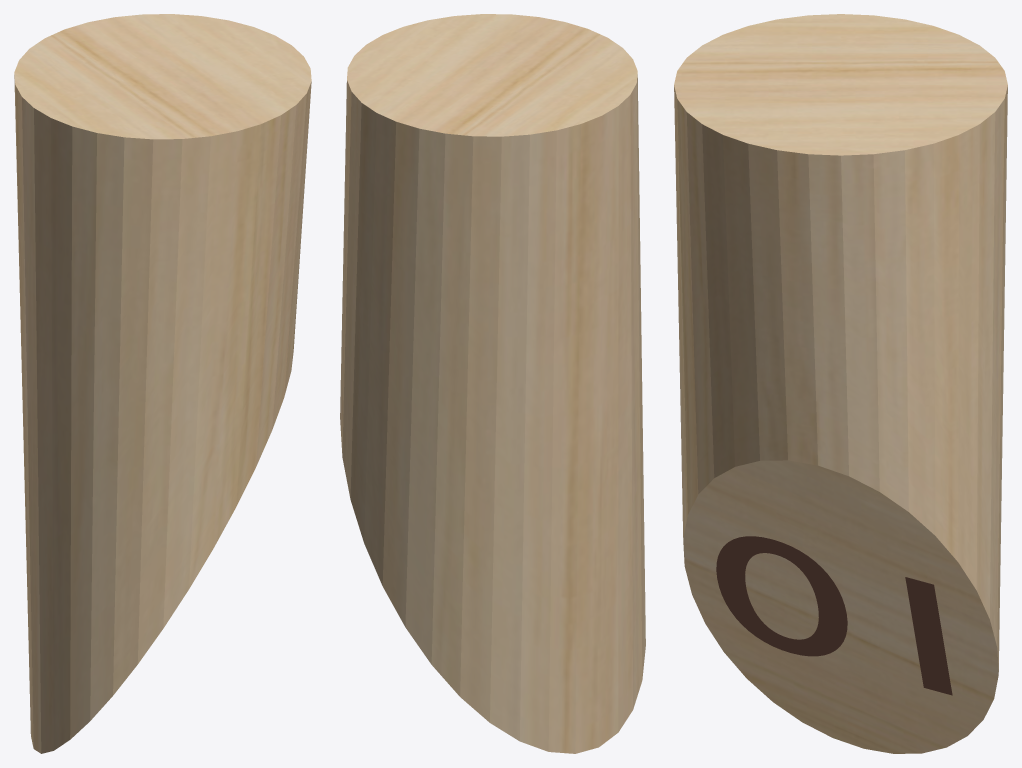
The model's file is pin10.glb.
3 renders of one model, left to right at view 1: azimuth 30°, elevation 25°; view 2: azimuth 150°, elevation 25°; view 3: azimuth 270°, elevation 25°, orthographic. The views are drawn at different scales.
Visible parts, largest first — view 1: 円柱.004; view 2: 円柱.004; view 3: 円柱.004.
Part boxes in pixels (bbox=[...]): 円柱.004: bbox=[14, 14, 311, 753]; 円柱.004: bbox=[340, 14, 645, 753]; 円柱.004: bbox=[674, 14, 1007, 753].
Bounding box in the file's own units: 1.16 × 2.79 × 1.16.
2 materials, 1 textured.
